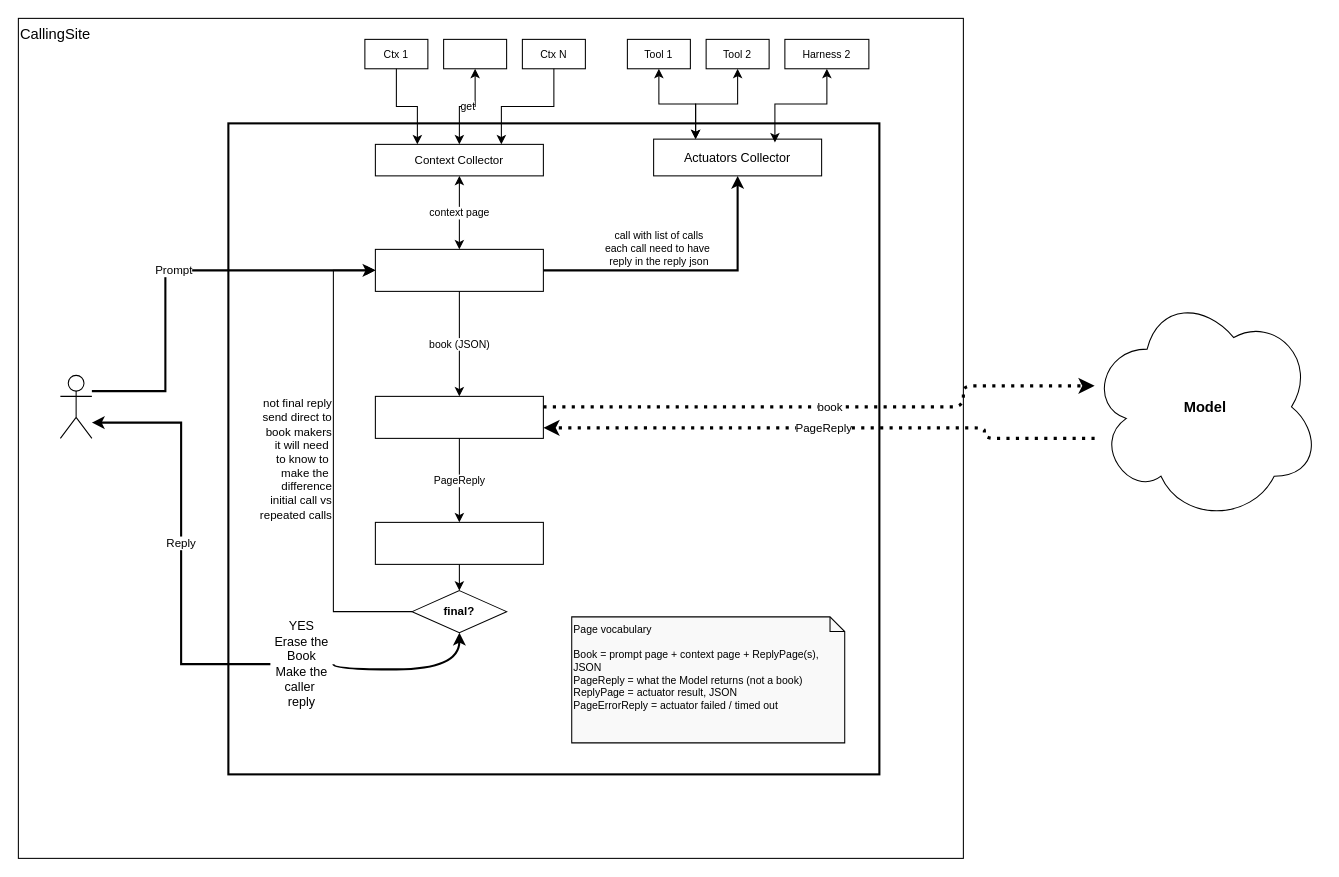
The diagram is 1339 pixels wide and 877 high, and some of its shapes have lost their labels. The shapes that lost their labels are listed below. From the top down, each one's box as (x1, y1, x2, y2) in pixels, then its label:
(443, 38, 507, 69): Ctx 2
(374, 248, 543, 291): BookMaker
(59, 374, 92, 438): Caller
(374, 395, 543, 438): ModelCaller
(374, 521, 543, 564): ModelReplyParser
